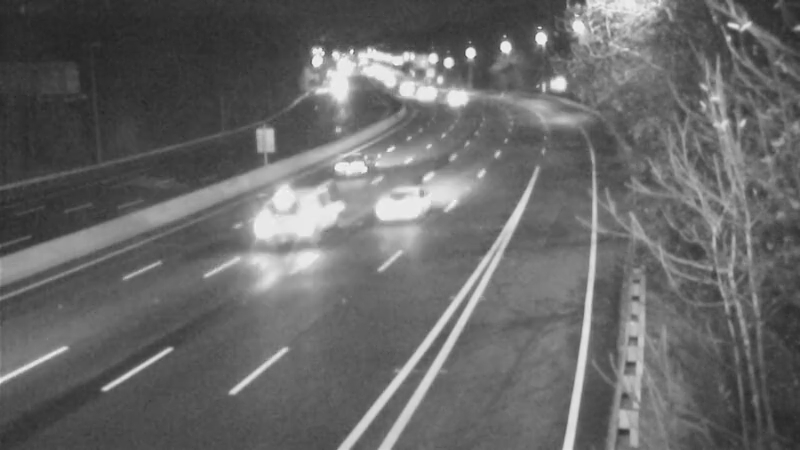vehicle: (314, 120, 394, 200), (366, 169, 446, 249), (222, 179, 302, 259), (397, 68, 447, 118), (433, 71, 483, 121)
